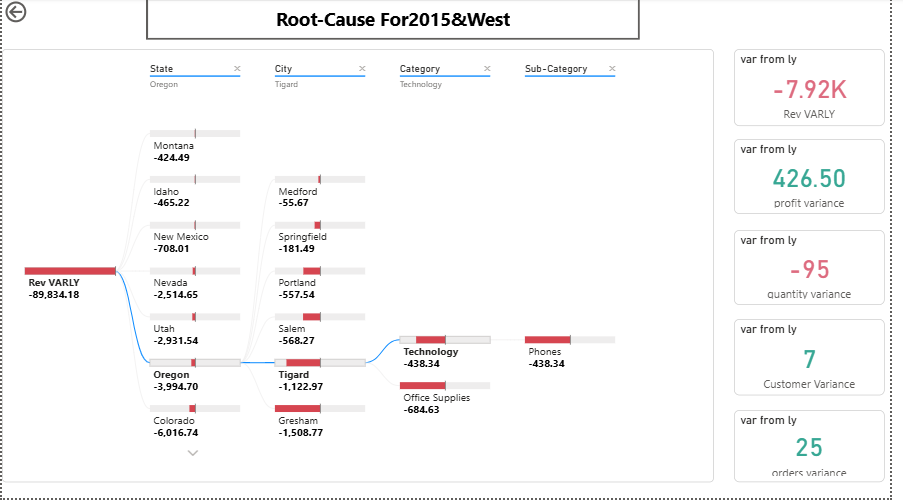

This screenshot's page, from the dashboard's own definition file:
{"tool":"powerbi","page":{"name":"Details","canvas":[1280,720],"ordinal":1},"visuals":[{"type":"decompositionTreeVisual","fields":{"Analyze":["Calculations.Rev VARLY"],"ExplainBy":["dlocations.State","dlocations.City","dproduct.Category","dproduct.Sub-Category"]},"box":[0,73.4,1025.3,623.5],"z":0},{"type":"actionButton","box":[207.4,0,711.4,60.5],"z":1000},{"type":"actionButton","box":[0,0,100,40],"z":2000},{"type":"card","title":"var from ly","fields":{"Values":["Calculations.Rev VARLY"]},"box":[1053.7,73.2,216.6,111.2],"z":3000},{"type":"card","title":"var from ly","fields":{"Values":["Calculations.profit variance"]},"box":[1053.7,203.4,216.6,108.3],"z":4000},{"type":"card","title":"var from ly","fields":{"Values":["Calculations.quantity variance"]},"box":[1053.7,333.7,216.6,108.3],"z":5000},{"type":"card","title":"var from ly","fields":{"Values":["Calculations.Customer Variance"]},"box":[1053.7,462.4,216.6,109.8],"z":6000},{"type":"card","title":"var from ly","fields":{"Values":["Calculations.orders variance"]},"box":[1053.7,592.7,216.6,103.9],"z":7000}]}

Visuals, with their boxes in screenshot pixels (x1, y1, x2, y2), scaled from the page's 1280x720 canvas onto the 903x501 screenshot:
decompositionTreeVisual - Calculations.Rev VARLY x dlocations.State: l=0, t=51, r=723, b=485
actionButton: l=146, t=0, r=648, b=42
actionButton: l=0, t=0, r=71, b=28
"var from ly" card: l=743, t=51, r=896, b=128
"var from ly" card: l=743, t=142, r=896, b=217
"var from ly" card: l=743, t=232, r=896, b=308
"var from ly" card: l=743, t=322, r=896, b=398
"var from ly" card: l=743, t=412, r=896, b=485
